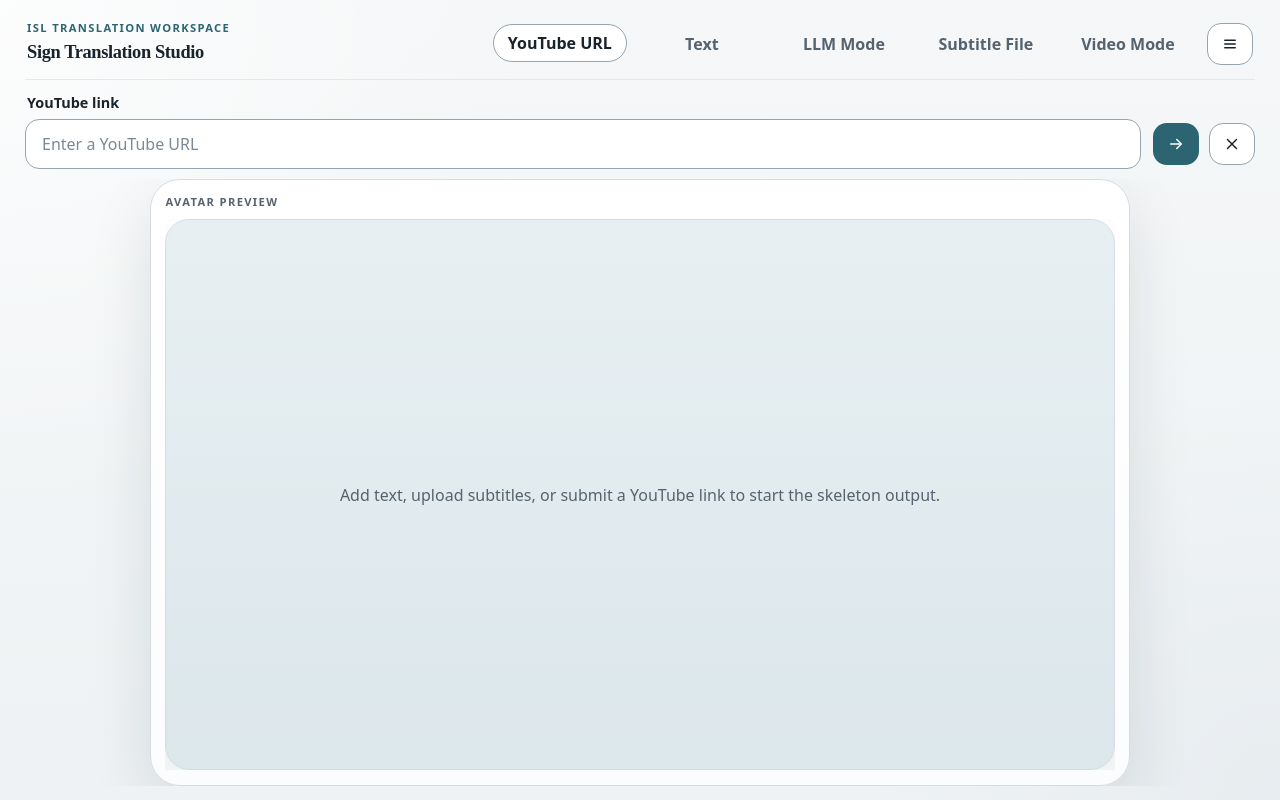
Scenario: App › asks Groq for a concise answer and routes it into the skeleton viewer
The width and height of the screenshot is (1280, 800).
Click the tab "LLM Mode" at (844, 44), box [777,25,911,63]
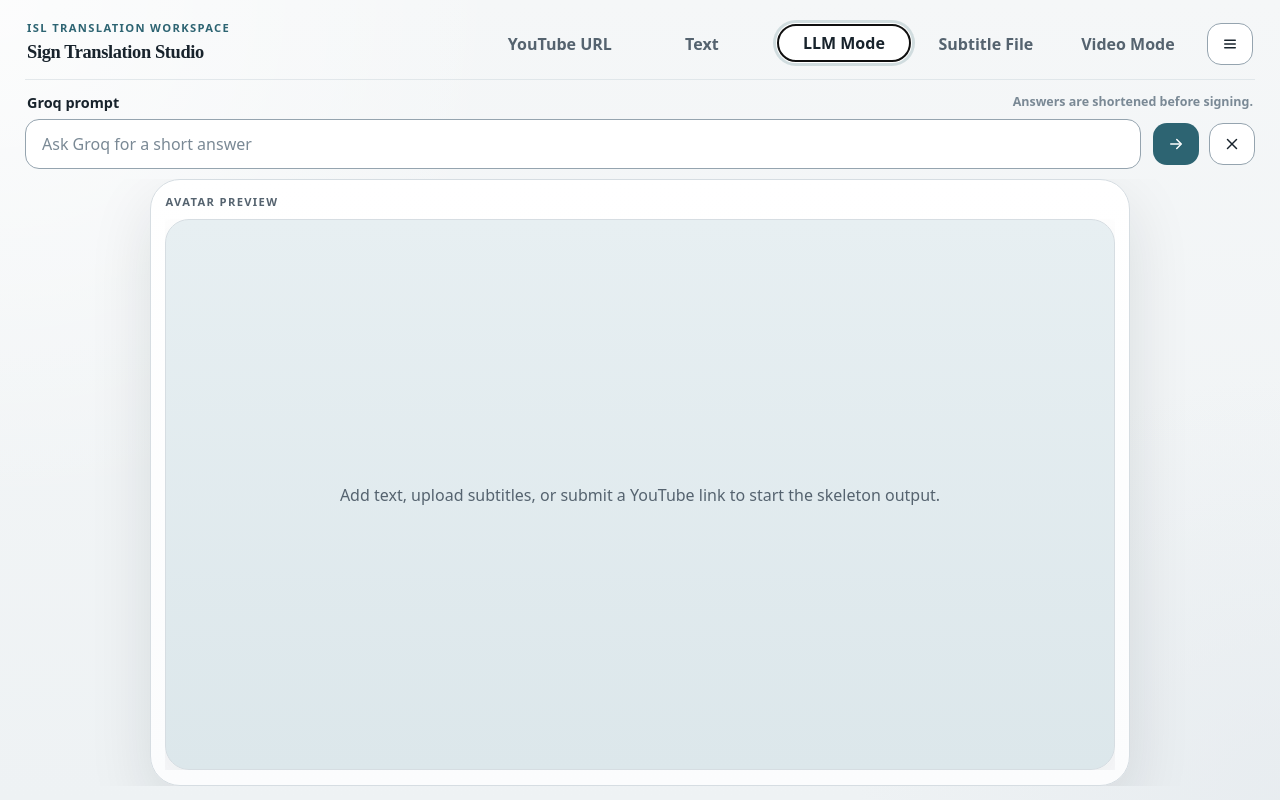
Check: the field labelled "Groq prompt" is shown
Type "Why learn sign language?" into the field with placeholder "Ask Groq for a short answer" at (583, 144), box [25,119,1141,169]
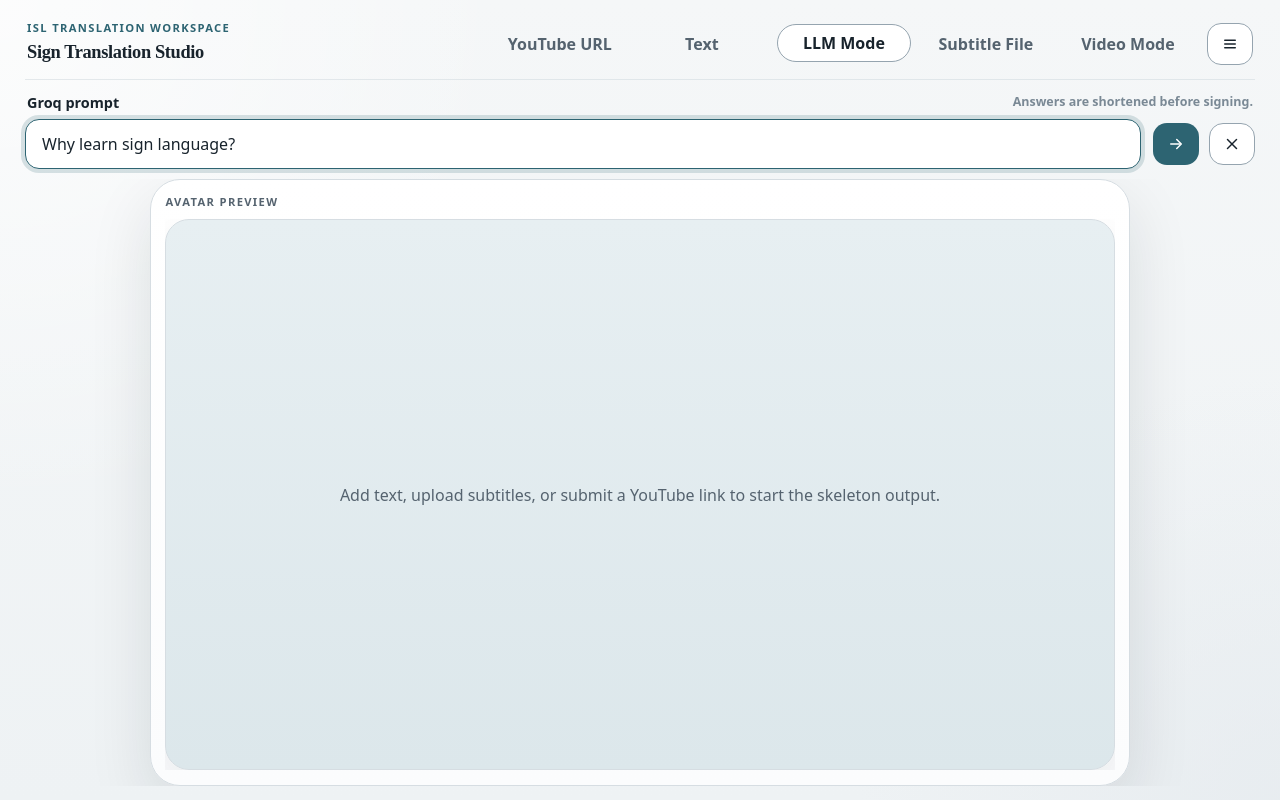
Click the button named "submit" at (1176, 144), box [1153,123,1199,165]
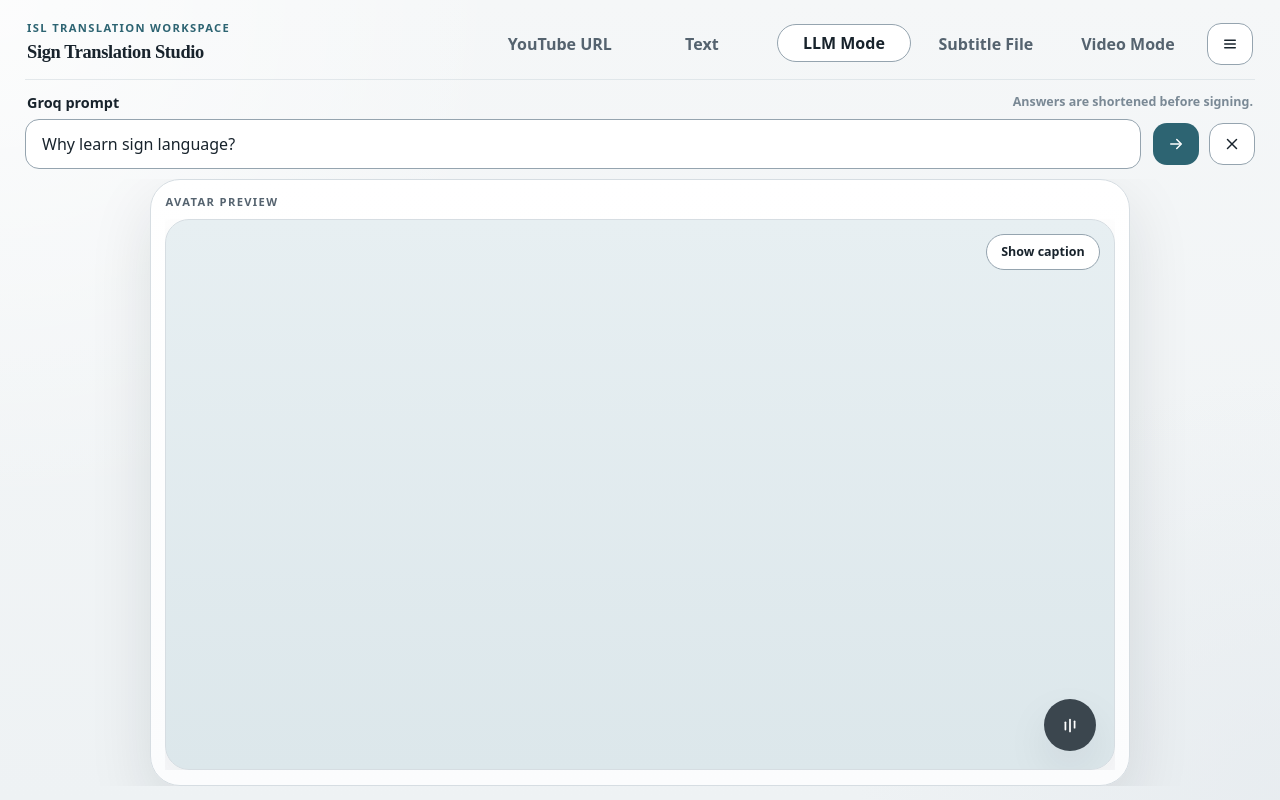
Check: the button "Show caption" is shown
Click the button "Show caption" at (1043, 252), box [986,234,1100,270]
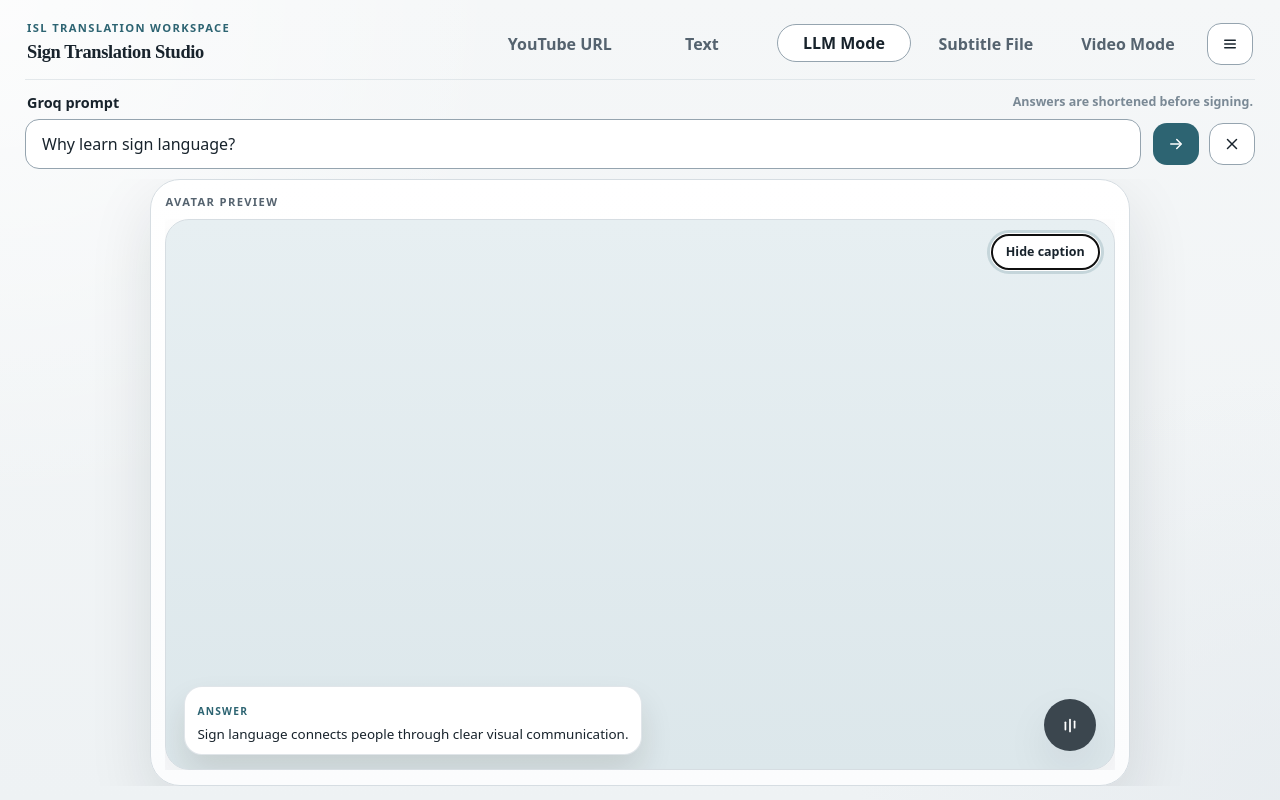
Check: the button "Hide caption" is shown, box [991,234,1100,270]
Check: the element named "llm answer caption" shows "Sign language connects people through clear visual communication.", box [197,725,628,743]
